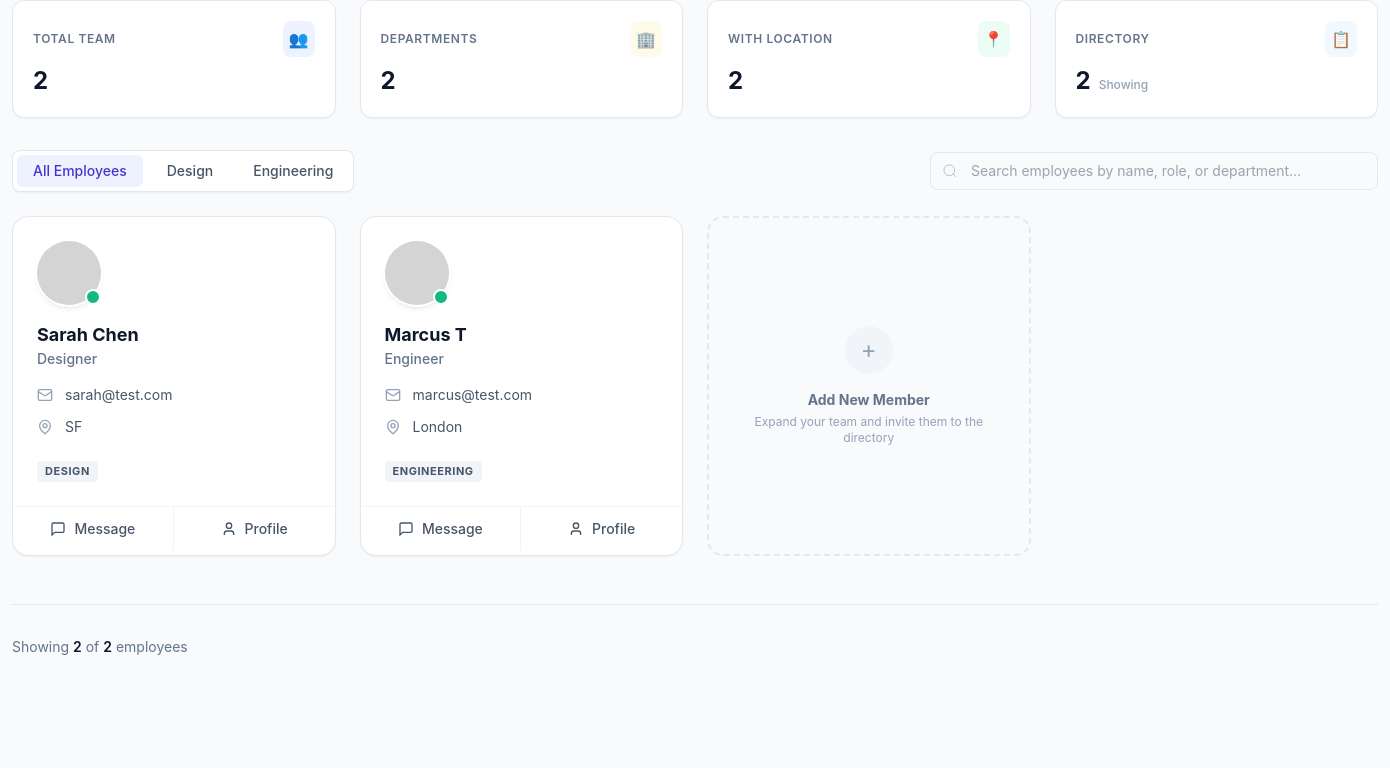
Test: Directory page › filters by search input
expect the heading "Sarah Chen" is shown: met, box x1=37 y1=324 x2=139 y2=345
In the field with placeholder "Search employees by name, role, or department...": (1154, 171) x1=930 y1=152 x2=1378 y2=190, type "marcus"
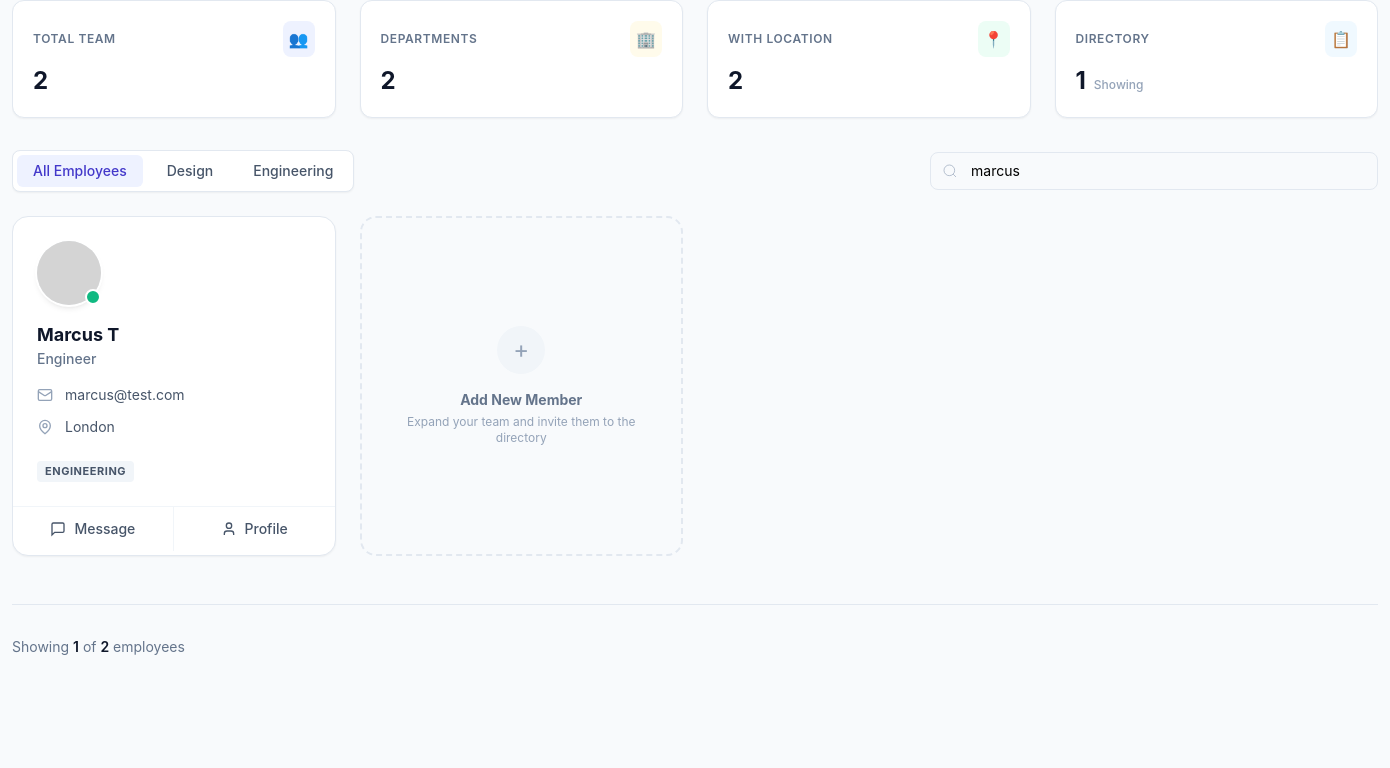
expect the heading "Marcus T" is shown: met, box x1=37 y1=324 x2=119 y2=345
expect the heading "Sarah Chen" is gone: met
